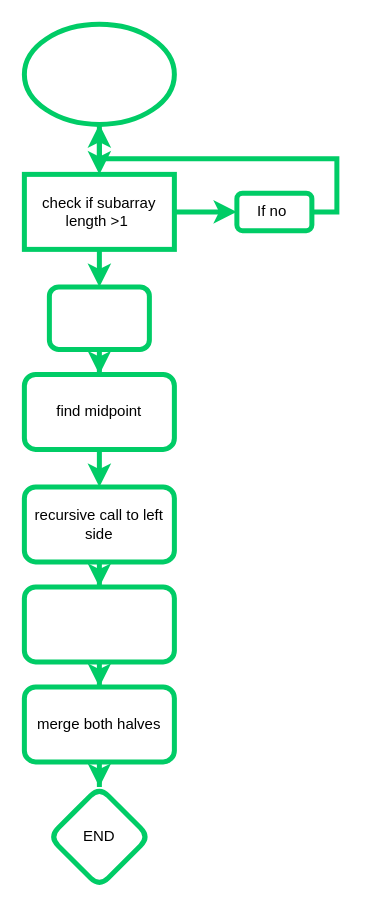
Image size: 370x910. Some labels were removed from this diagram. The centre of each missing label's shape, as x and y in pixels:
if yes: point 98,317
recursive call to right side: point 98,624
Start sorting: point 98,73
